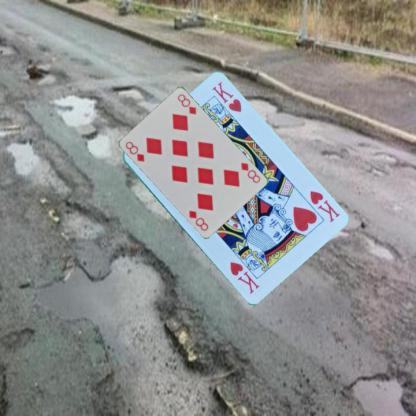8d: (122, 139, 146, 163), (238, 160, 261, 184)
Kh: (306, 188, 341, 224)
